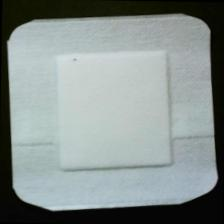Dressing: (4, 9, 222, 216)
F_Body: (67, 55, 83, 70)
